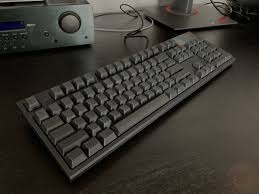keyboard: (2, 25, 253, 184)
